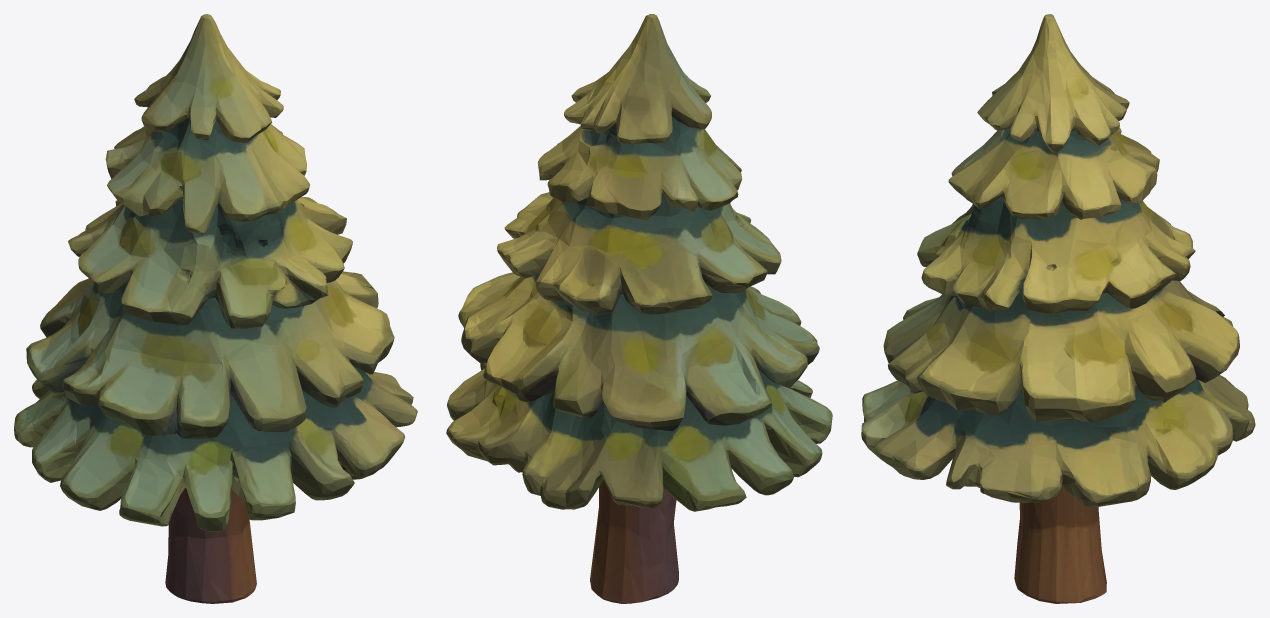
The model's file is pine.glb.
3 views of the same model, side by side, from view 1: azimuth 30°, elevation 25°; view 2: azimuth 150°, elevation 25°; view 3: azimuth 270°, elevation 25° (orthographic). The views are drawn at different scales.
Visible parts, largest first — view 1: world; view 2: world; view 3: world.
Part boxes in pixels (left/top/right/bottom): world: left=14, top=14, right=417, bottom=603; world: left=446, top=14, right=832, bottom=603; world: left=861, top=14, right=1255, bottom=603.
Size of the model in its own units: 0.6081 by 0.9986 by 0.6279.
Materials: 1 (1 with a texture image).
